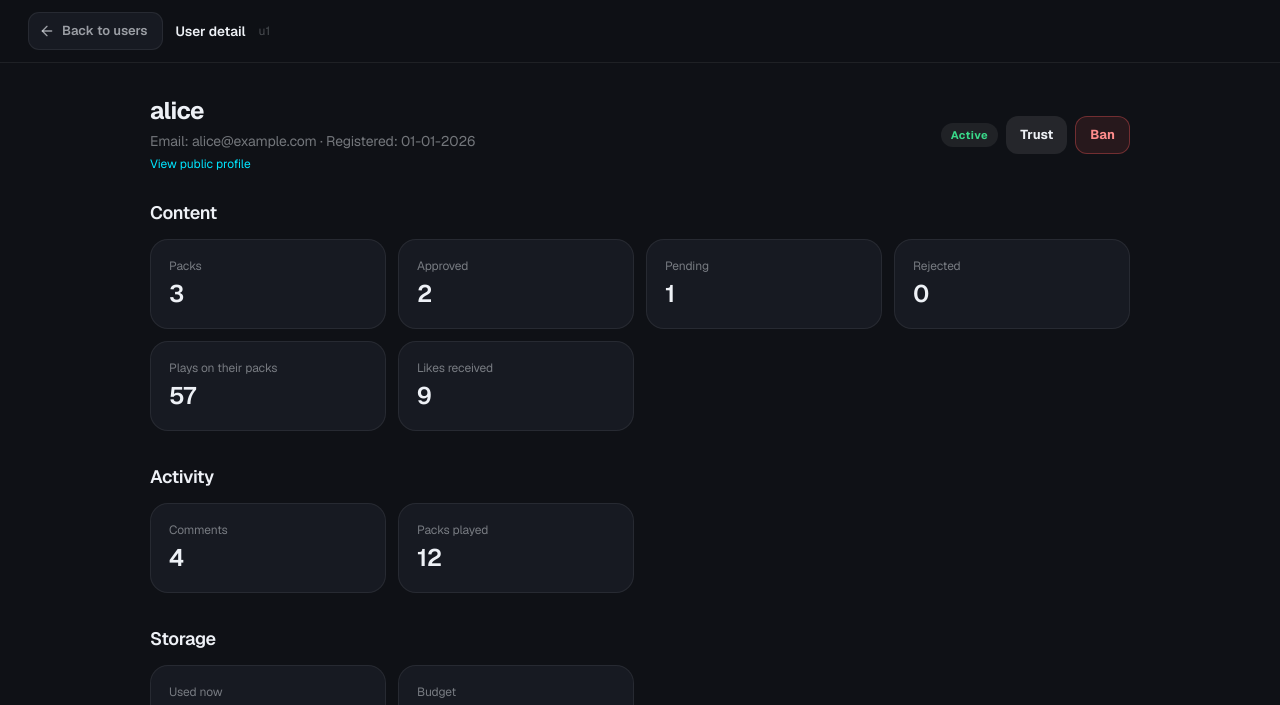
AdminUserDetailScreen › moderation actions › surfaces a localized error when the ban request fails
The image size is (1280, 705).
What coordinates should you click on to do the following:
click the button "Ban"
I would click on:
 (1103, 135)
Its box is [1075, 116, 1130, 154].
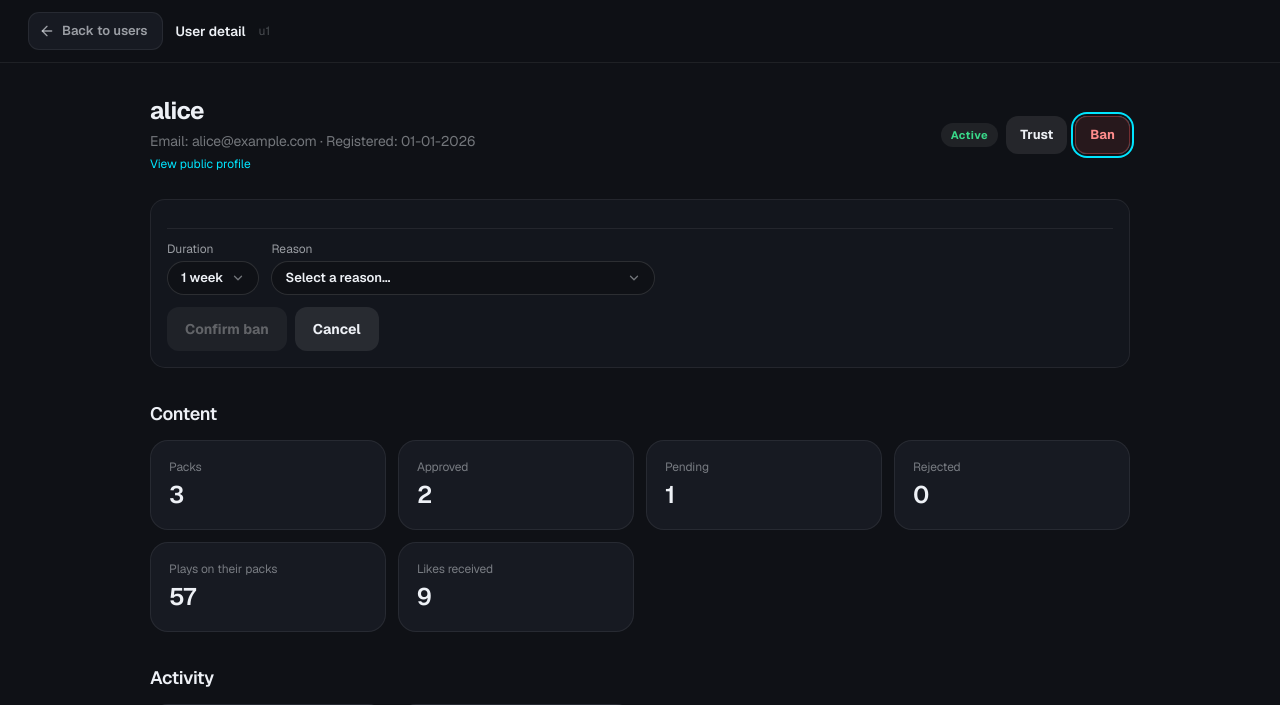
What coordinates should you click on to do the following:
click the dropdown labelled "reason"
I would click on:
 (338, 278)
Its box is [271, 261, 655, 295].
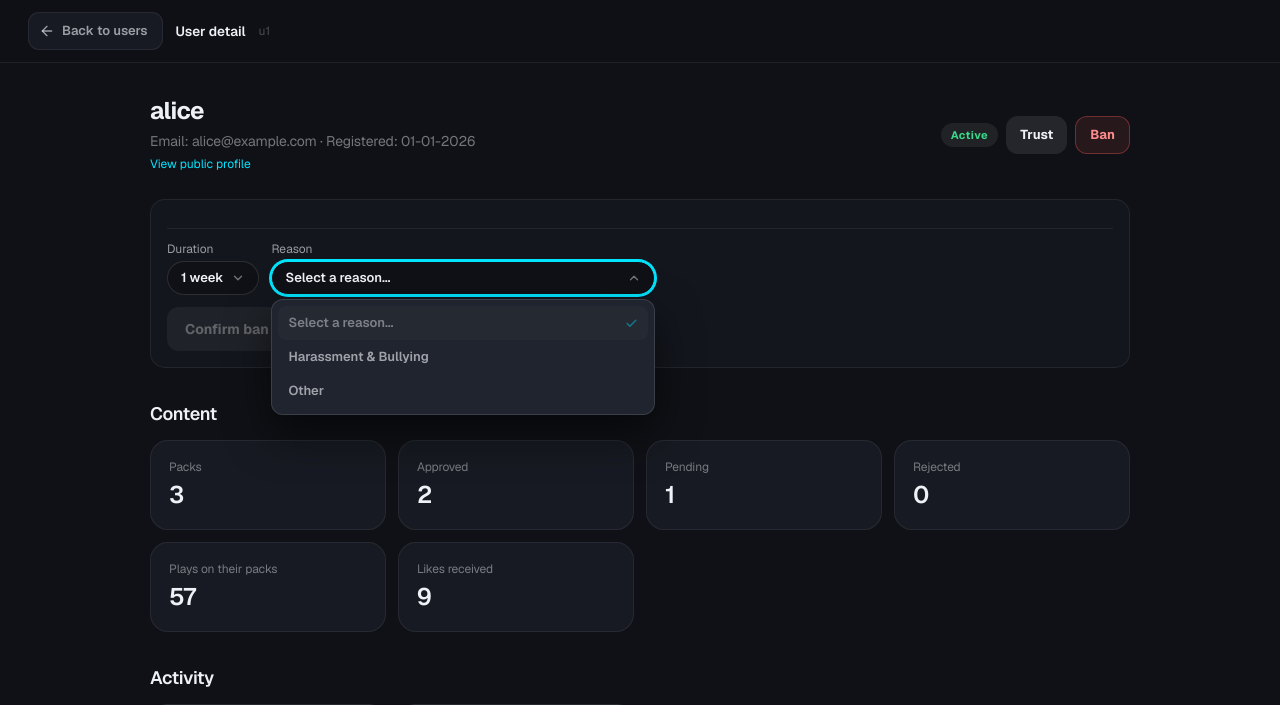
What coordinates should you click on to do the following:
click the option "Harassment & Bullying"
I would click on:
 (359, 357)
Its box is [288, 348, 429, 365].
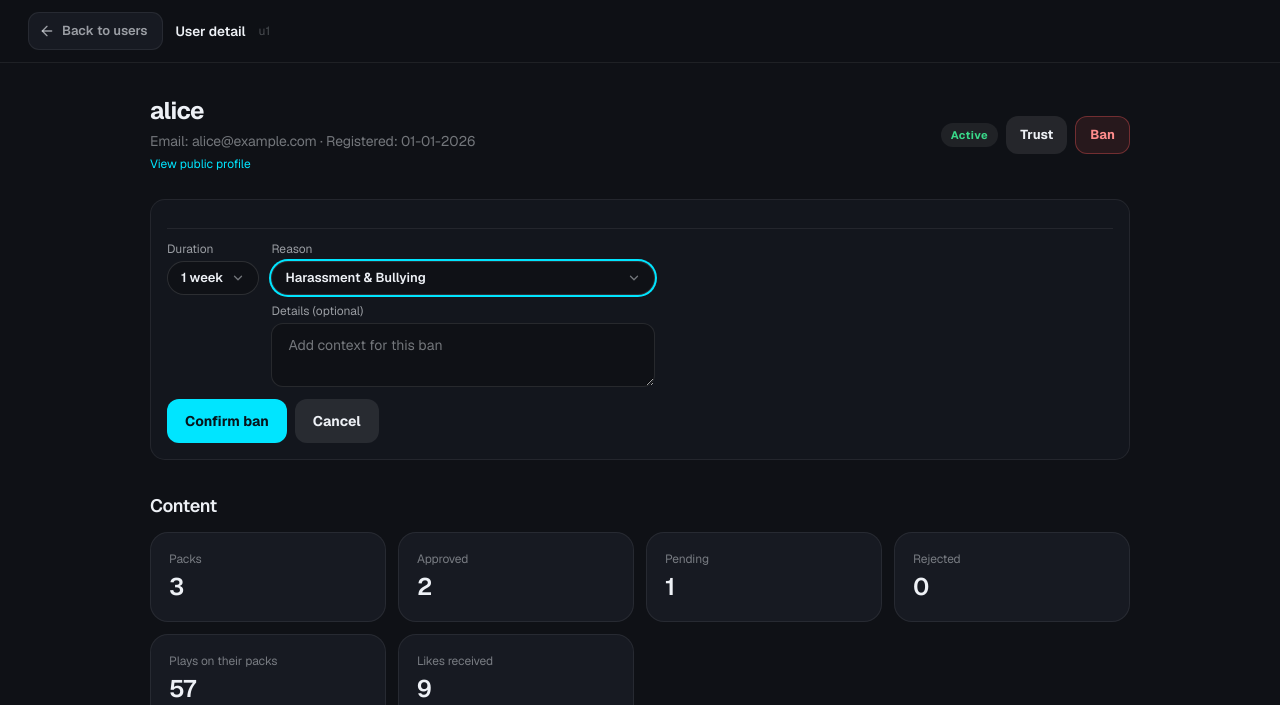
What coordinates should you click on to do the following:
click the button "Confirm ban"
I would click on:
 (227, 421)
Its box is [167, 399, 287, 443].
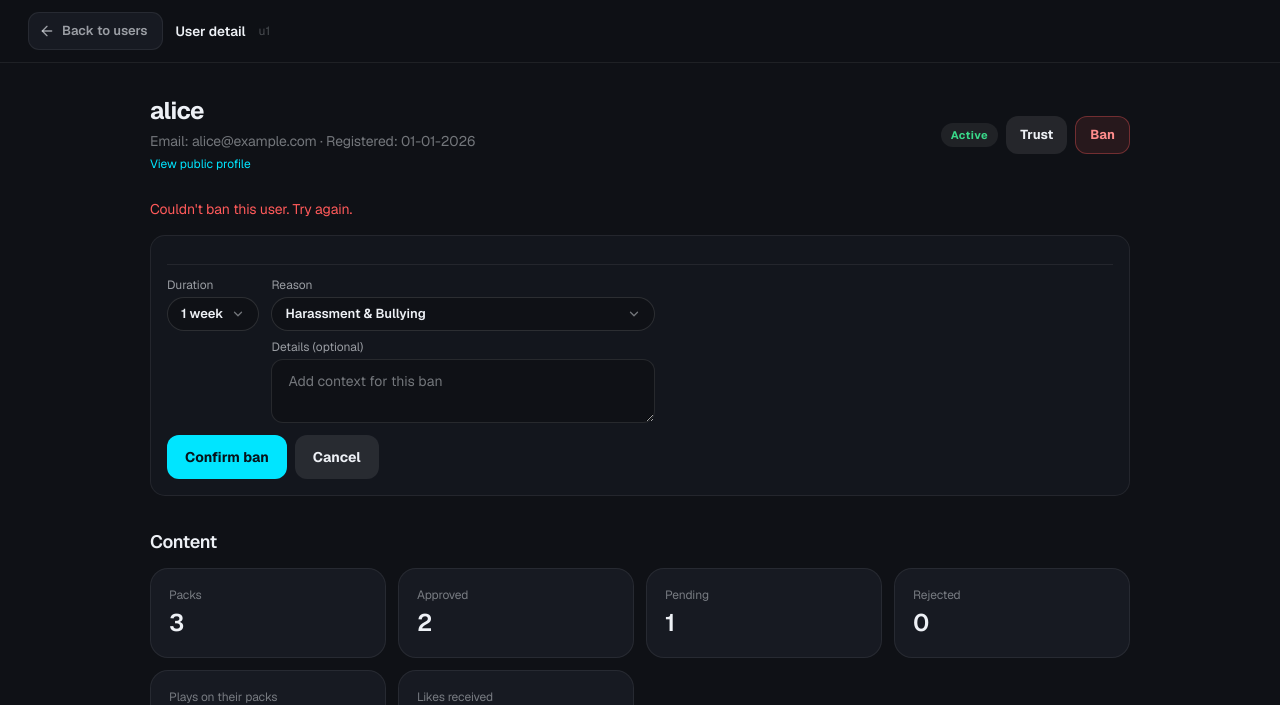
Check: the text "Couldn't ban this user. Try again." is shown, box [150, 200, 352, 218]
